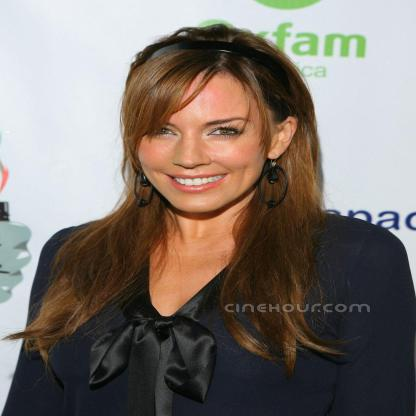long-hair: (100, 214, 318, 252)
